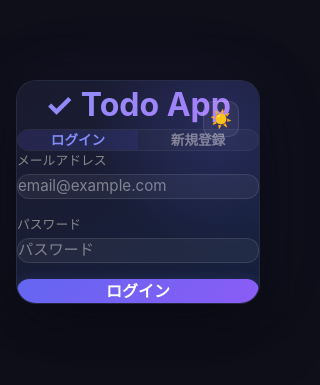
Test case: LoginPage › 新規登録タブに切り替わる
新規登録タブをクリック
Click the button "新規登録" at (198, 140), box [138,130,258,150]
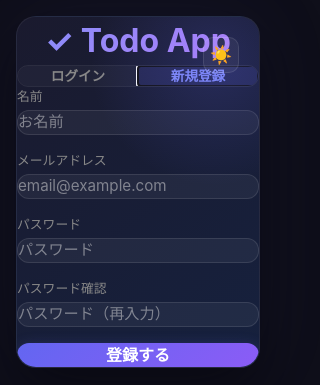
Expected: the field with placeholder "お名前" is shown, [17,110,259,135]
Expected: the password field with placeholder "パスワード（再入力）" is shown, [17,302,259,327]
Expected: the button "登録する" is shown, [17,343,259,367]
